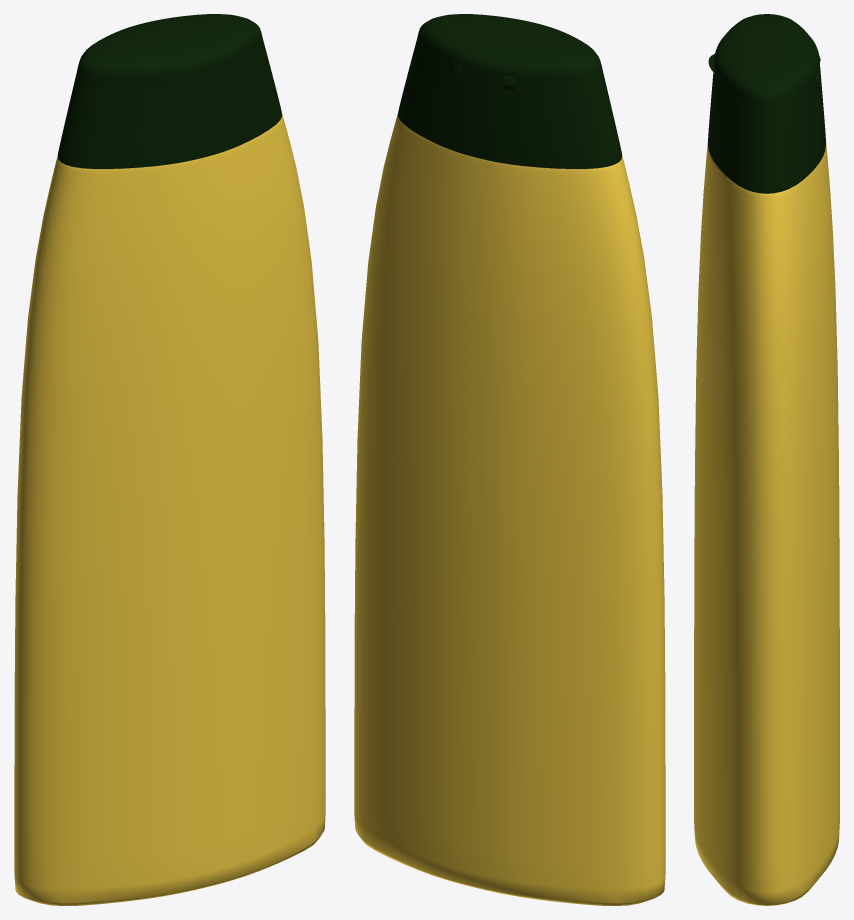
Rendered from uploads_files_3279091_Plastic_Bottle_4.fbx.
3 views of the same model, side by side, from view 1: azimuth 30°, elevation 25°; view 2: azimuth 150°, elevation 25°; view 3: azimuth 270°, elevation 25° (orthographic). The views are drawn at different scales.
Visible parts, largest first — view 1: Bottle_4; view 2: Bottle_4; view 3: Bottle_4.
Boxes of the visible parts, x1=… form: Bottle_4: x1=14, y1=14, x2=325, y2=905; Bottle_4: x1=354, y1=14, x2=665, y2=905; Bottle_4: x1=694, y1=14, x2=839, y2=905.
Bounding box in the file's own units: 191 × 496 × 82.81.
2 materials, 2 textured.
